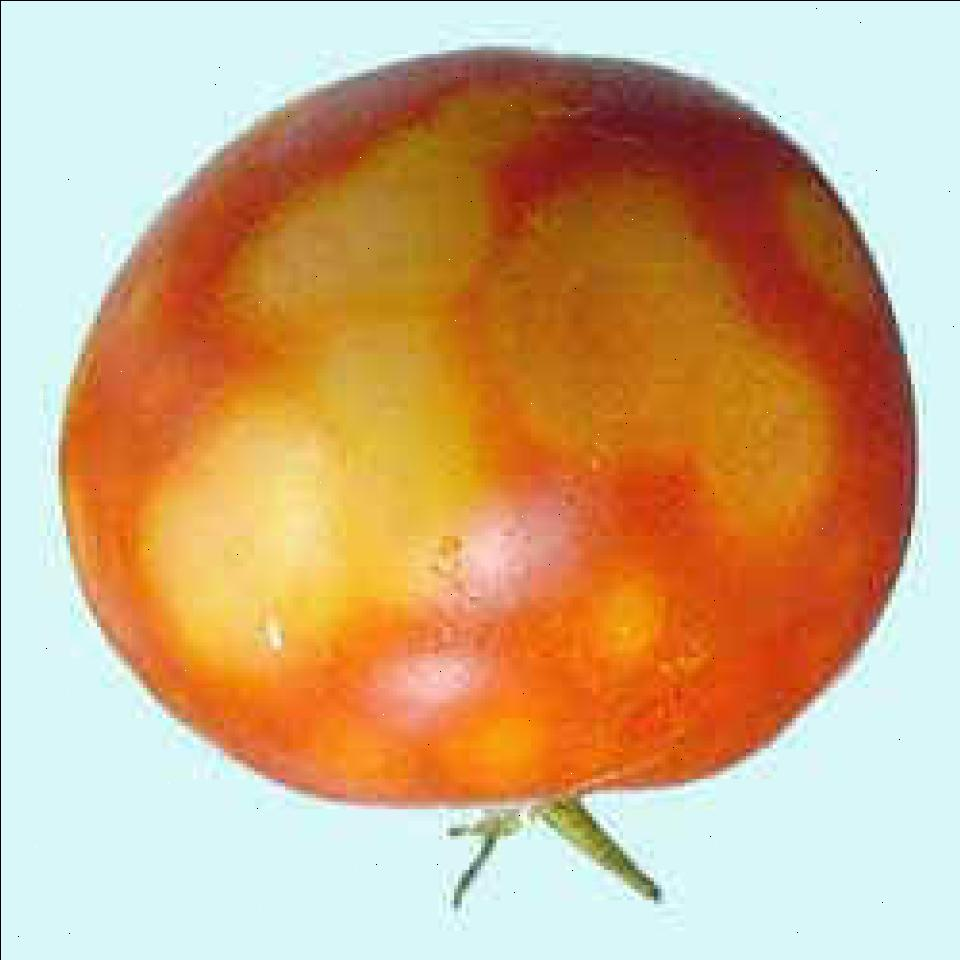Spotted wilt Virus: (58, 46, 914, 804)
